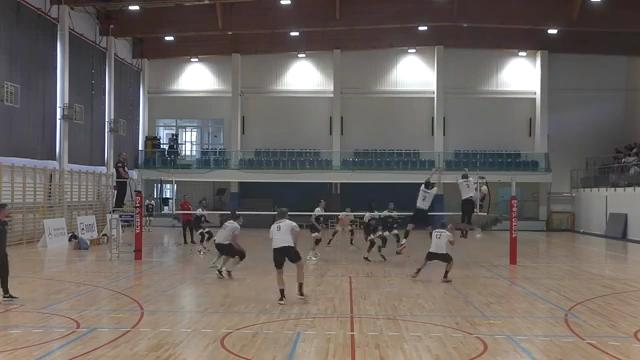attacco: (469, 169, 489, 240)
muro: (394, 165, 445, 252), (452, 165, 478, 243)
